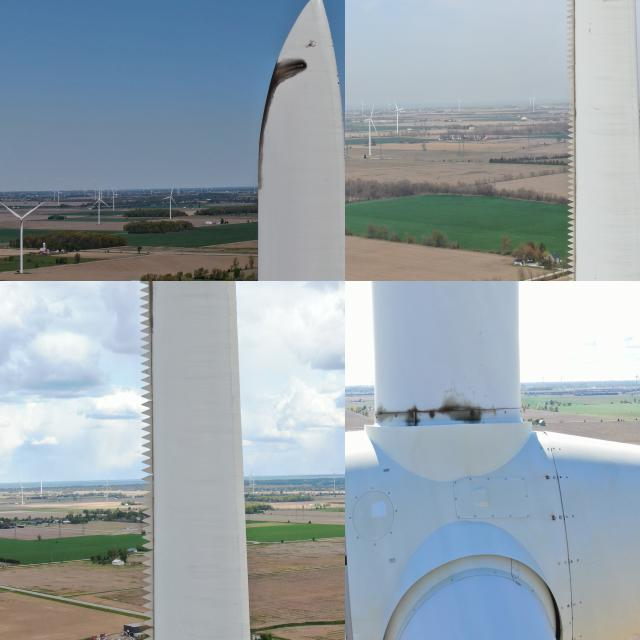damage: (432, 372, 486, 436), (261, 50, 313, 99), (372, 388, 424, 435)
